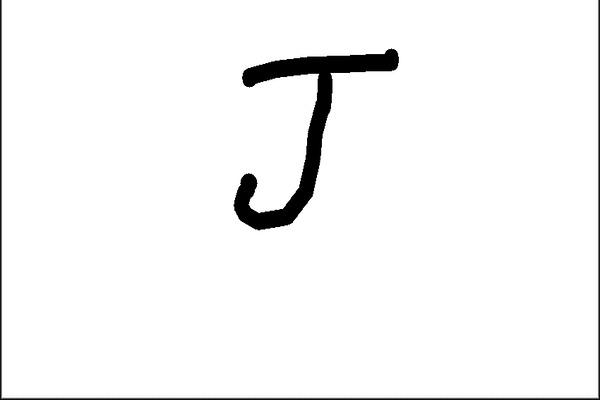J: (226, 45, 405, 231)
